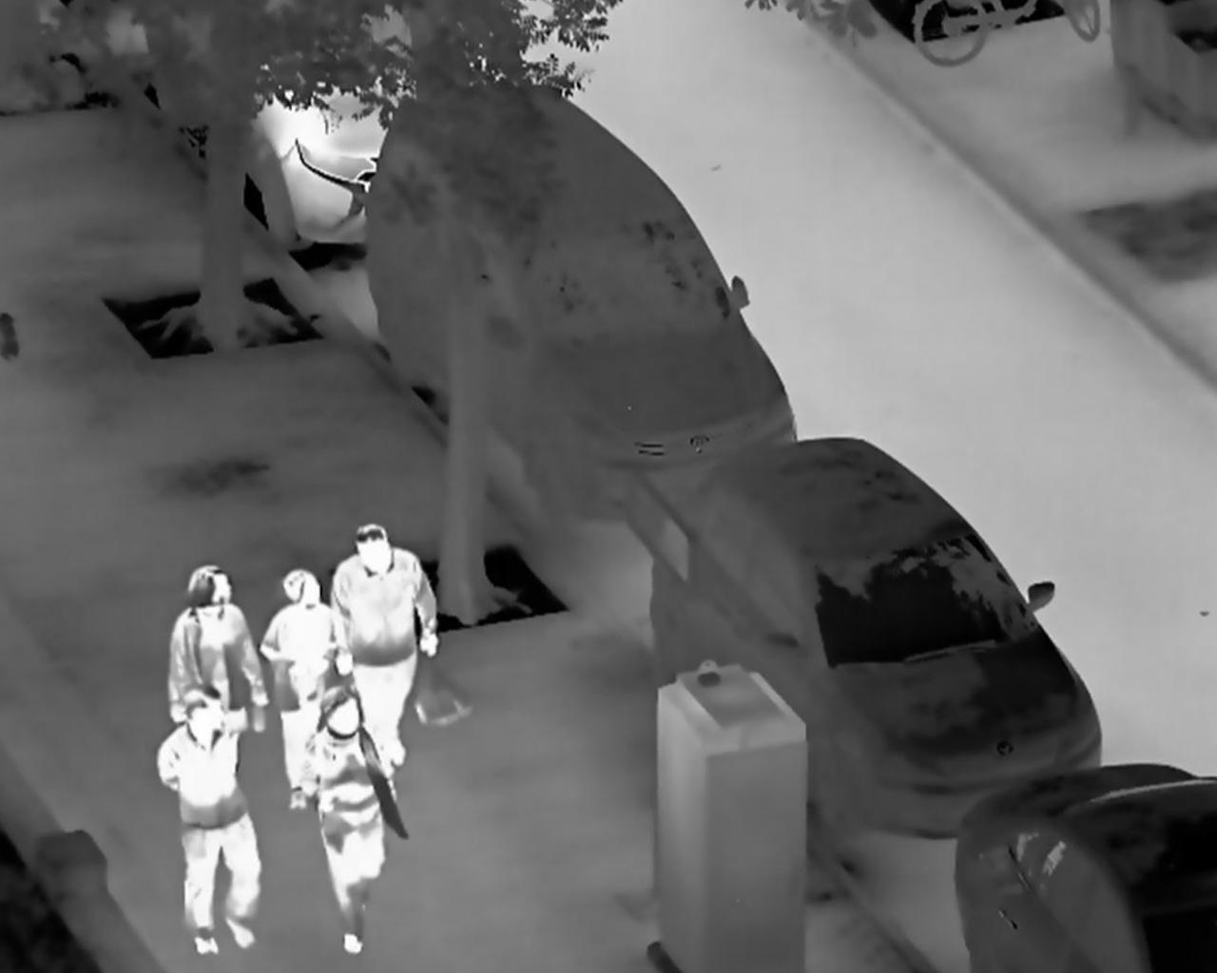person: (156, 682, 262, 959), (328, 522, 441, 773), (302, 685, 397, 957), (255, 568, 356, 809), (164, 563, 268, 740)
